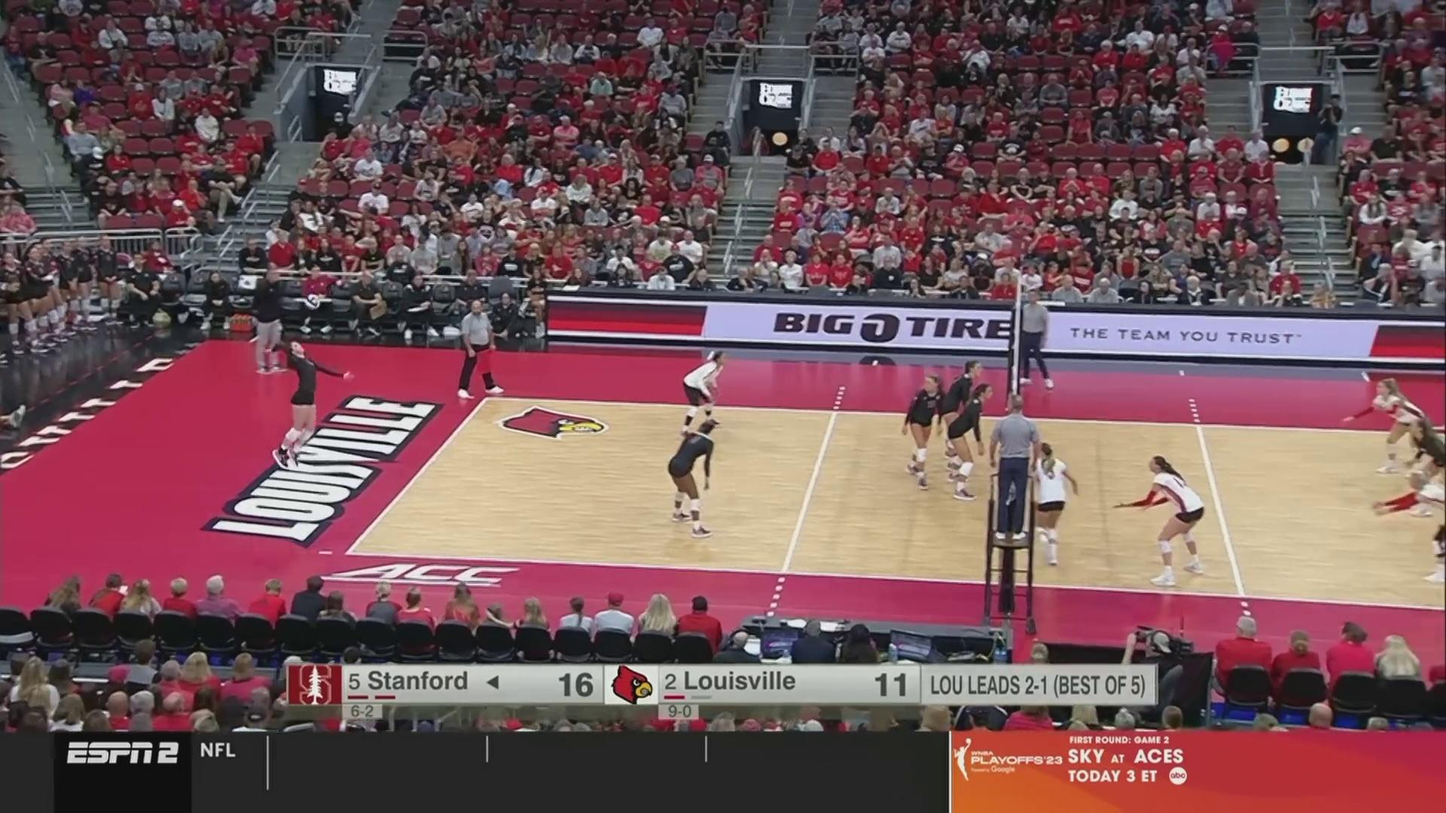player: (264, 331, 347, 474), (1114, 459, 1206, 585), (1342, 378, 1444, 477), (1371, 470, 1446, 584), (1026, 442, 1079, 562), (665, 420, 719, 536), (935, 383, 989, 498), (936, 353, 985, 468), (904, 373, 954, 483), (1401, 422, 1446, 516), (676, 354, 724, 433)
refree: (989, 405, 1042, 541), (451, 298, 507, 402), (1016, 289, 1054, 391)
